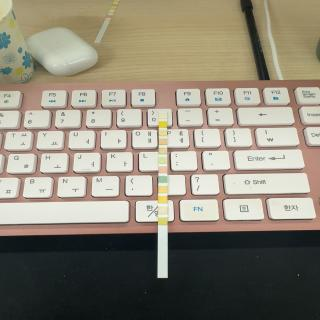mark: (158, 217, 168, 225), (158, 196, 168, 203), (158, 175, 168, 182), (159, 206, 167, 214), (158, 186, 168, 192), (158, 166, 166, 173), (159, 129, 167, 136), (158, 157, 167, 163), (159, 148, 167, 154), (159, 139, 167, 145), (159, 121, 167, 127), (159, 113, 167, 119)
